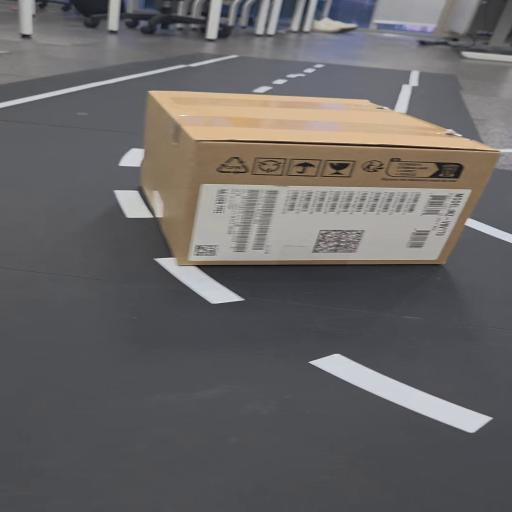Box: (134, 83, 509, 273)
